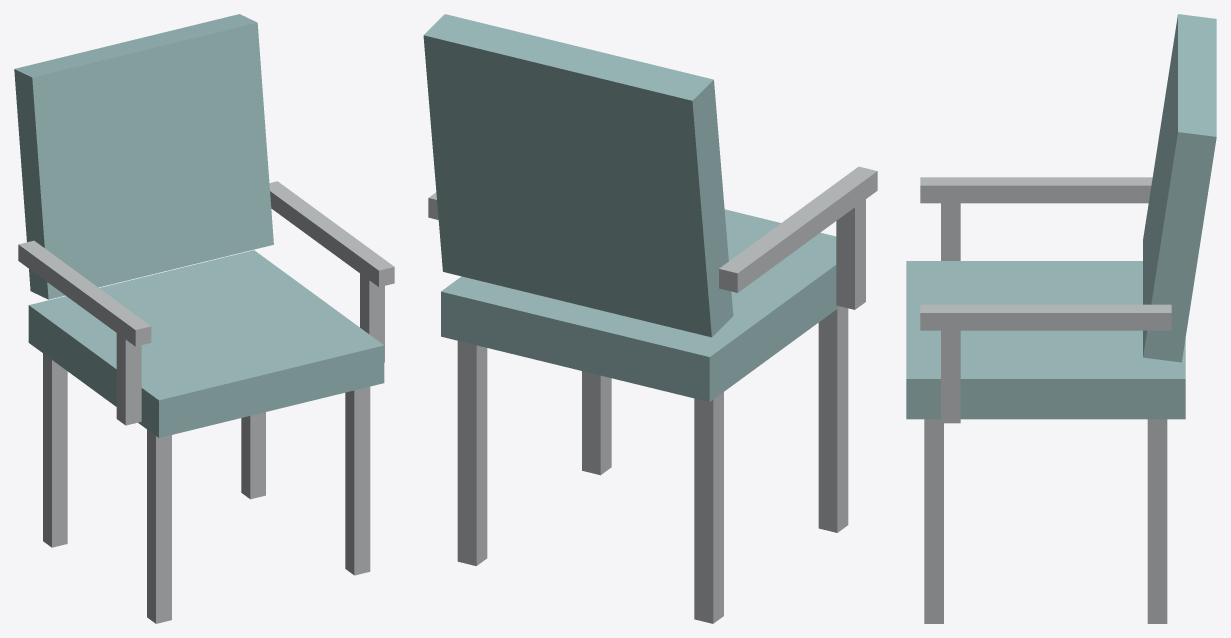
File: Waiting_chair.glb
3 views of the same model, side by side, from view 1: azimuth 30°, elevation 25°; view 2: azimuth 150°, elevation 25°; view 3: azimuth 270°, elevation 25° (orthographic). The views are drawn at different scales.
Parts seen in each view (by area): view 1: Waiting_chair; view 2: Waiting_chair; view 3: Waiting_chair.
Part boxes in pixels (x1,y1,x2,y2): Waiting_chair: [14, 14, 394, 623]; Waiting_chair: [423, 14, 877, 623]; Waiting_chair: [906, 14, 1216, 623].
Size of the model in its own units: 0.575 by 0.9777 by 0.556.
